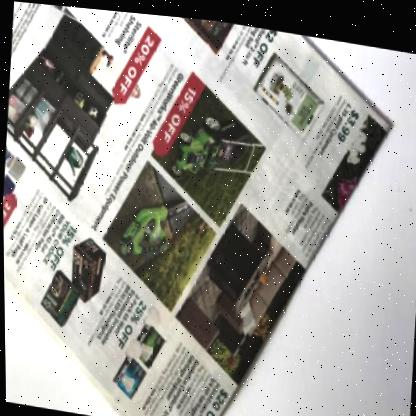Paper: (2, 1, 393, 416)
